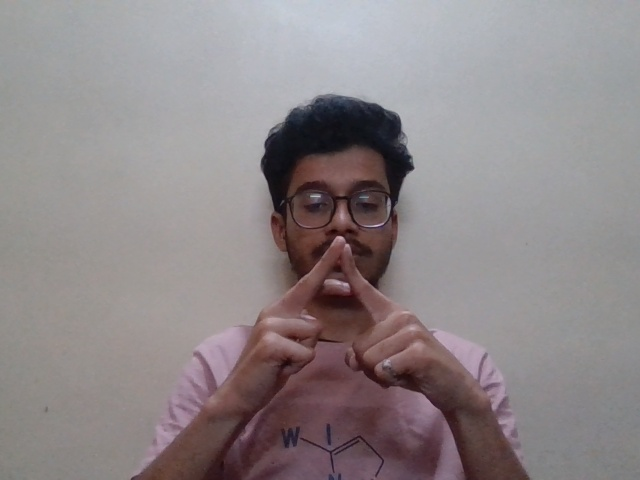A: (221, 228, 499, 423)
